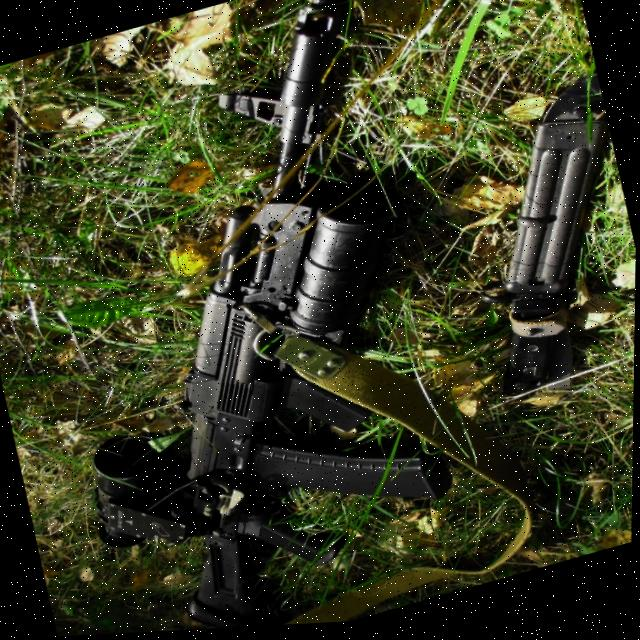firearm: (0, 0, 483, 640)
